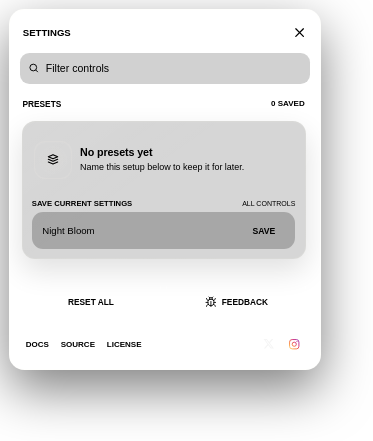
Scenario: AdvancedControlsSidebar › saves a named preset and identifies replacement
The width and height of the screenshot is (373, 441).
Click the submit button at (264, 230), box [235, 215, 292, 246]
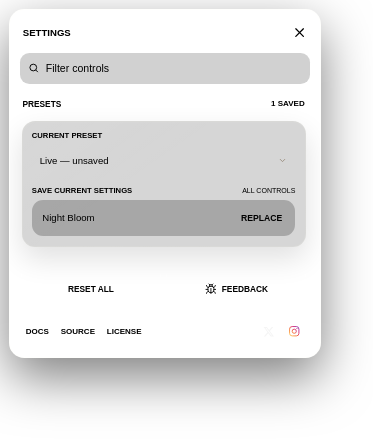
Expected: the submit button reads "Replace", [231, 202, 292, 233]
